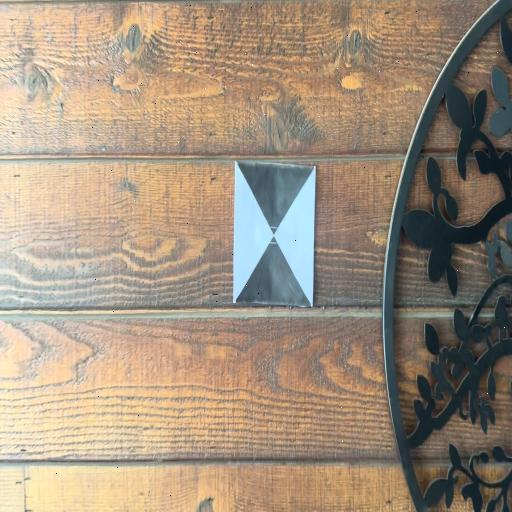target: (234, 162, 314, 304)
